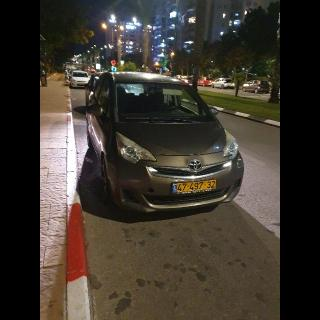LicensePlate: (176, 179, 217, 192)
